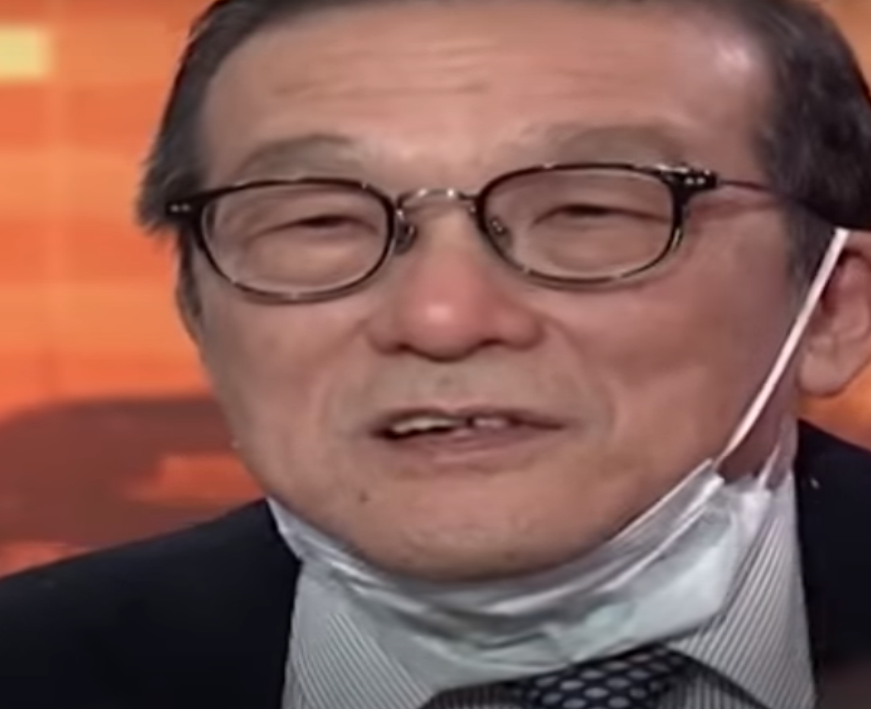mask_weared_incorrect: (141, 6, 871, 695)
